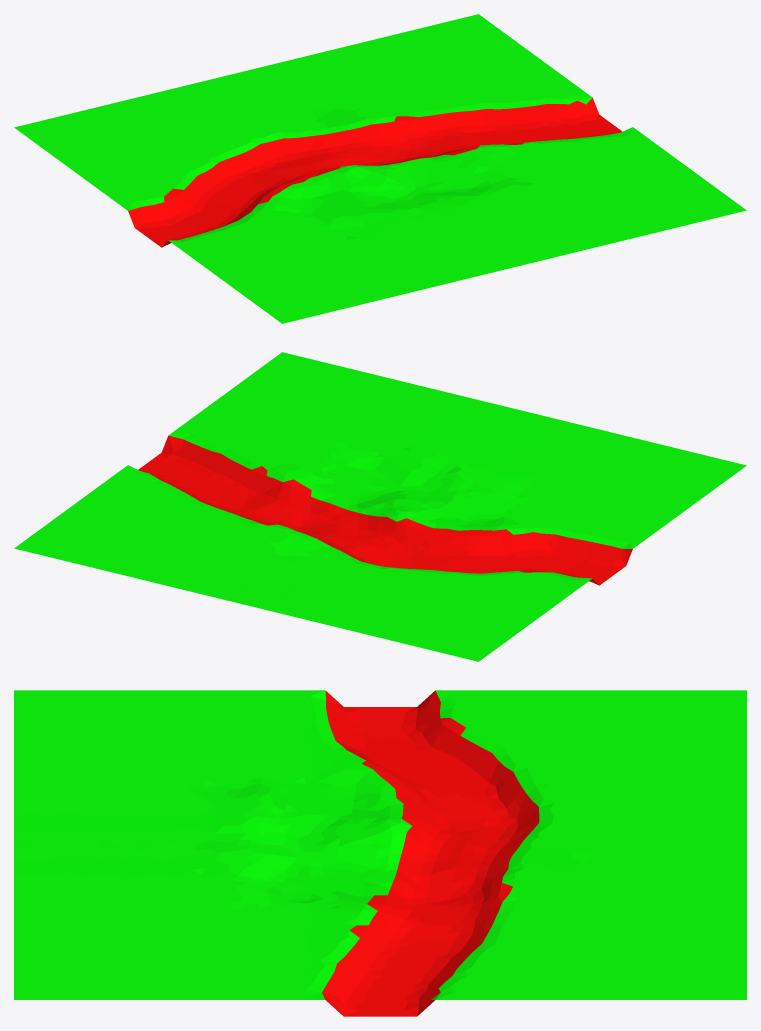
Rendered from River01.fbx.
3 renders of one model, top to bottom at view 1: azimuth 30°, elevation 25°; view 2: azimuth 150°, elevation 25°; view 3: azimuth 270°, elevation 25°, orthographic. The views are drawn at different scales.
Visible parts, largest first — view 1: River01; view 2: River01; view 3: River01.
Part boxes in pixels (left/top/right/bottom): River01: left=14, top=14, right=746, bottom=323; River01: left=14, top=352, right=746, bottom=661; River01: left=14, top=690, right=746, bottom=1016.
Bounding box in the file's own units: 5009 × 194 × 5009.
